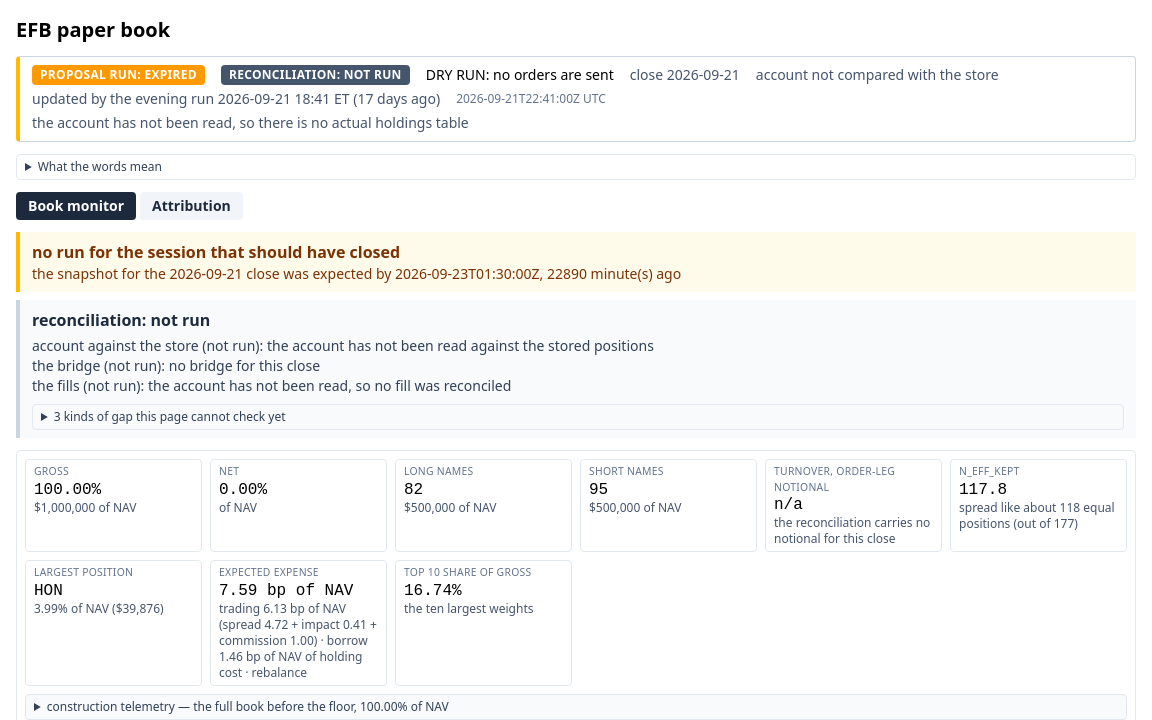
Test: the attribution section › opens on the live book, not the research panel
The image size is (1152, 720).
Click the tab "Attribution": (191, 206) [140,192,243,220]
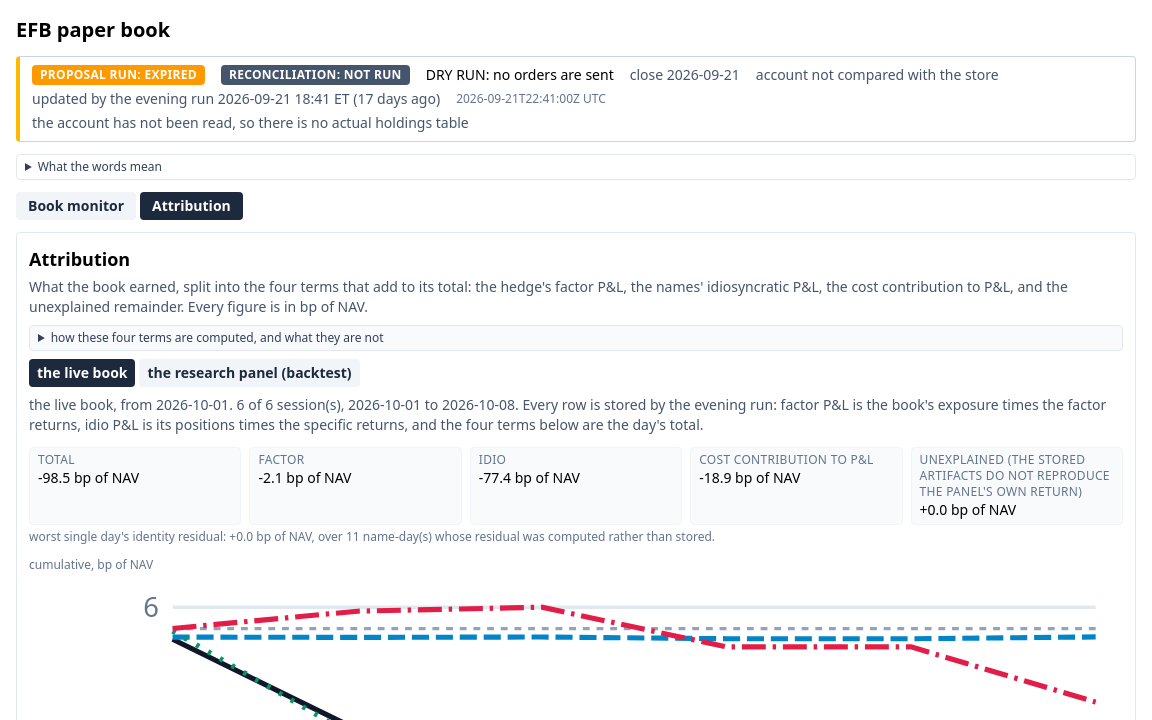
Result: the text "the live book, from 2026-10-01" is shown at [29,395,229,414]
